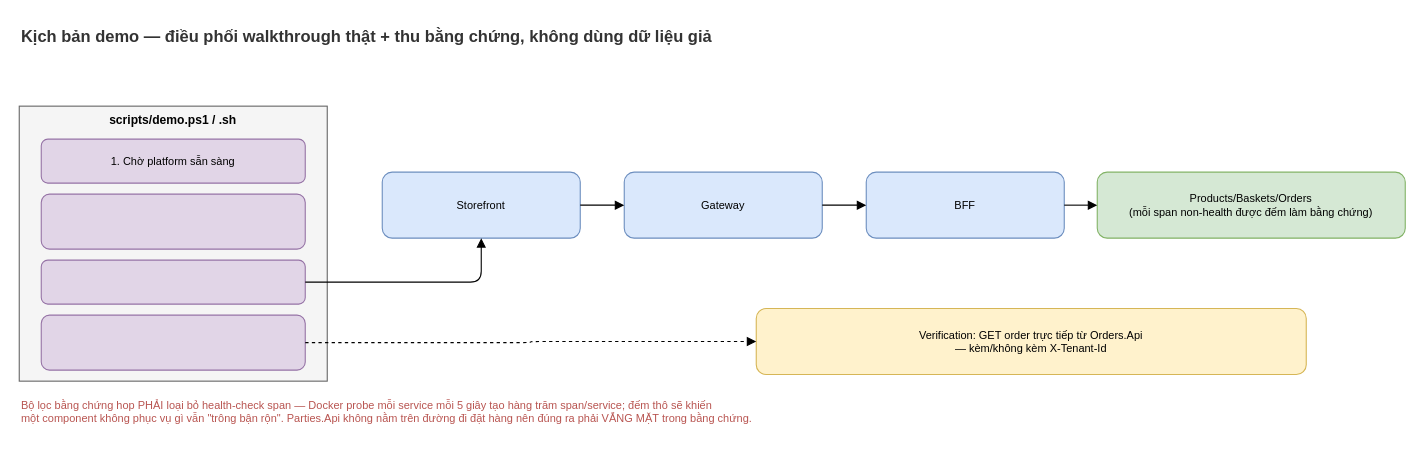
Some shapes in this 1425 by 454 pixel diagram are drawn without their labels. Each missing label, with the centre of its shape:
"2. Dọn giỏ hàng qua Baskets.Api (không qua checkout)" goes at (x=172, y=221).
"3. Playwright — trình duyệt thật" goes at (x=172, y=281).
"4. Thu bằng chứng hop từ OTel Collector logs" goes at (x=172, y=342).
